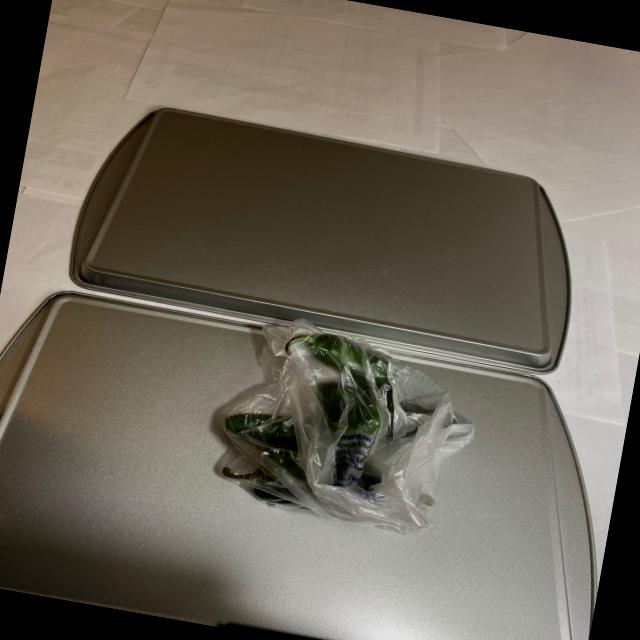chilli: (205, 320, 478, 537)
